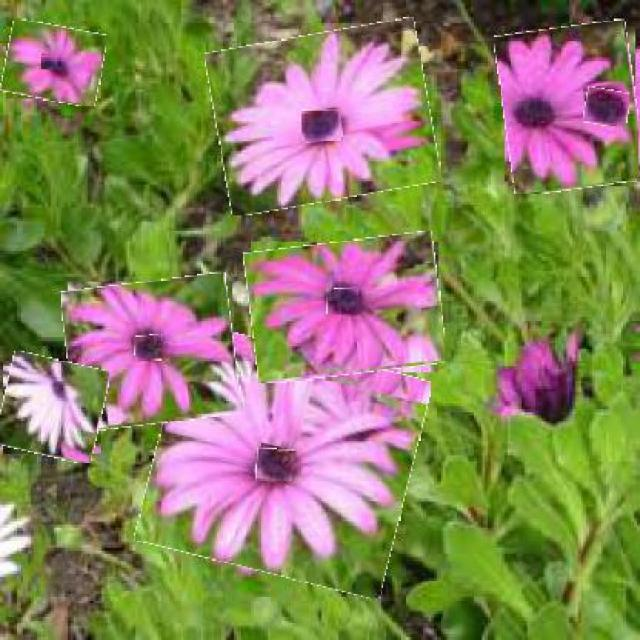Flower: (146, 336, 420, 587), (211, 26, 435, 209), (248, 237, 443, 380), (64, 278, 238, 429), (499, 22, 639, 193), (0, 356, 108, 462), (3, 22, 105, 104), (585, 88, 630, 126), (302, 109, 342, 142), (256, 449, 296, 482), (326, 289, 362, 318), (135, 335, 164, 361), (40, 55, 58, 71)
